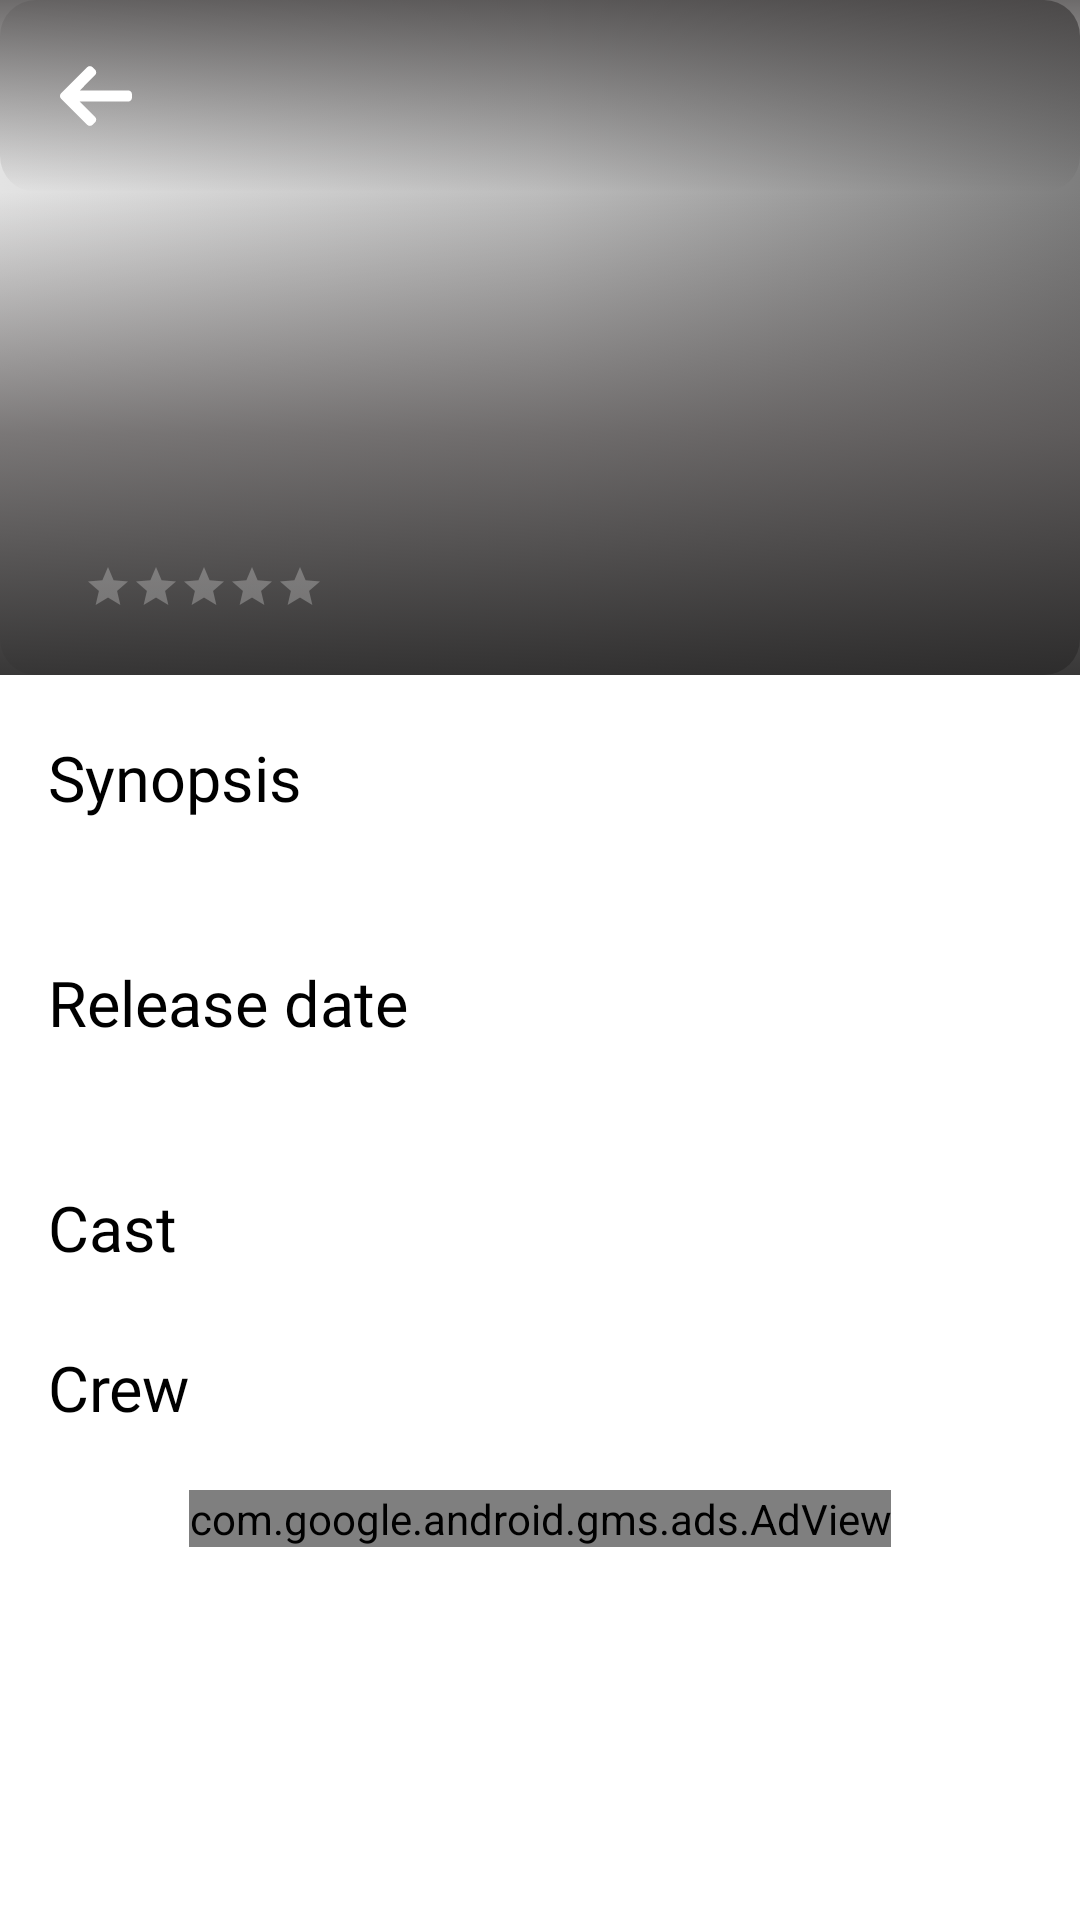

Named icons in this screenshot (1080 x 1920) and their centers, [x,y]:
Back button: [96,96]
